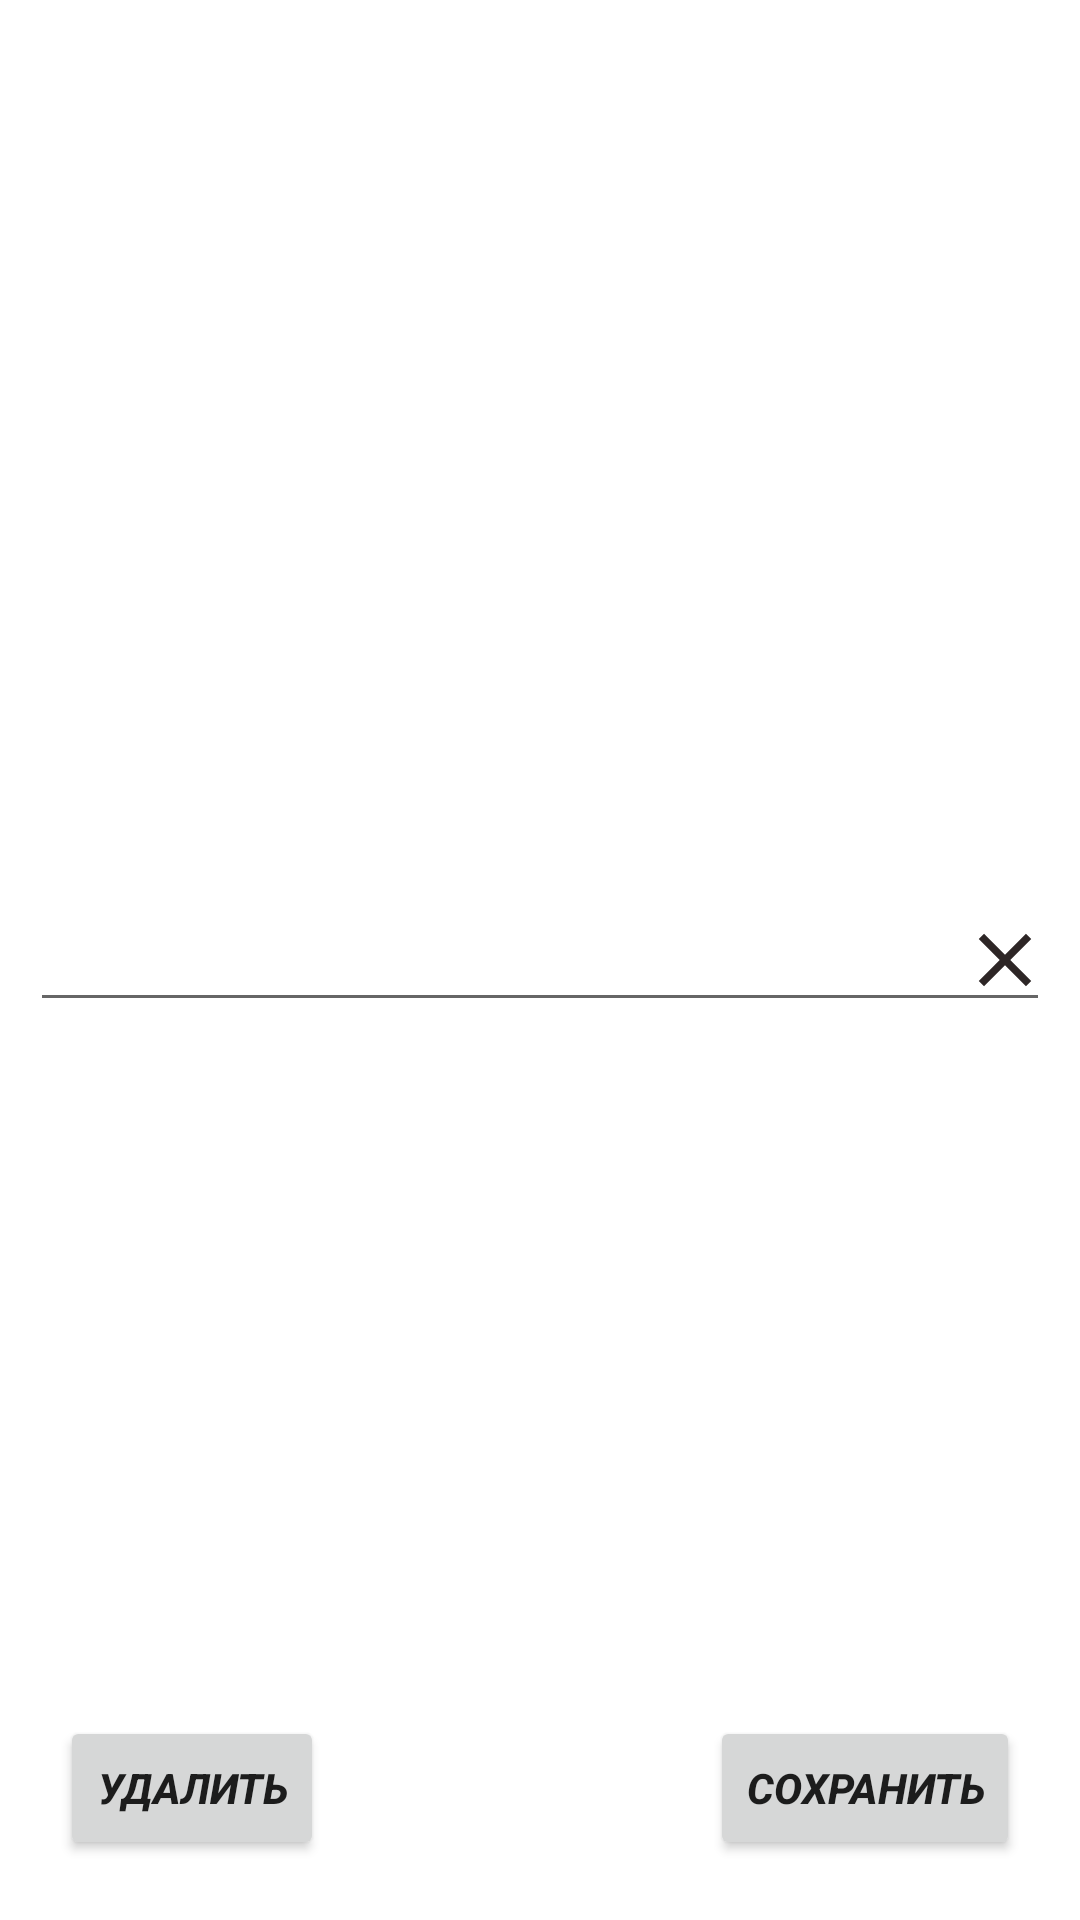

Where to tap for icons on this 1080*1920 app screen, as (x=x, y=y):
clear: (x=1005, y=960)
